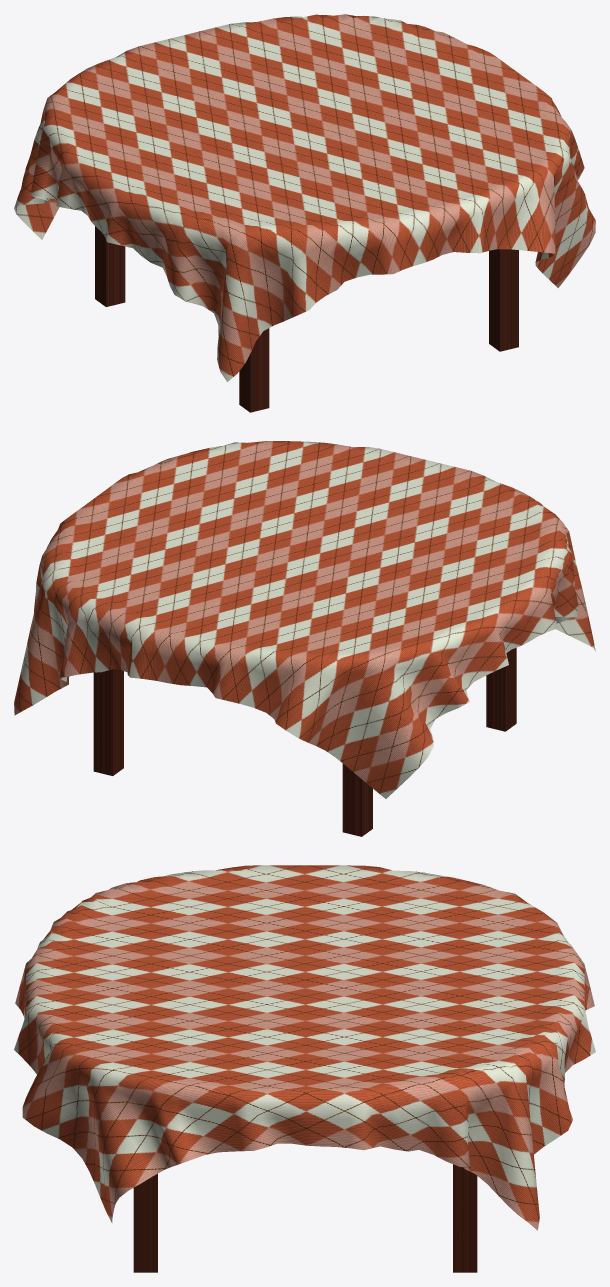
Rendered from table.fbx.
The picture shows the model from 3 angles, top to bottom: view 1: azimuth 30°, elevation 25°; view 2: azimuth 150°, elevation 25°; view 3: azimuth 270°, elevation 25°; orthographic projection. The views are drawn at different scales.
Visible parts, largest first — view 1: Plane, Cube; view 2: Plane, Cube; view 3: Plane, Cube.
Part boxes in pixels (left/top/right/bottom): Plane: left=14, top=14, right=595, bottom=381; Cube: left=95, top=226, right=518, bottom=412; Plane: left=14, top=441, right=595, bottom=798; Cube: left=93, top=647, right=516, bottom=836; Plane: left=14, top=865, right=595, bottom=1230; Cube: left=133, top=1164, right=477, bottom=1272.
Bounding box in the file's own units: 285 × 121 × 284.
